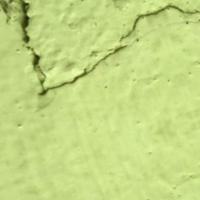crack: (13, 0, 145, 107)
